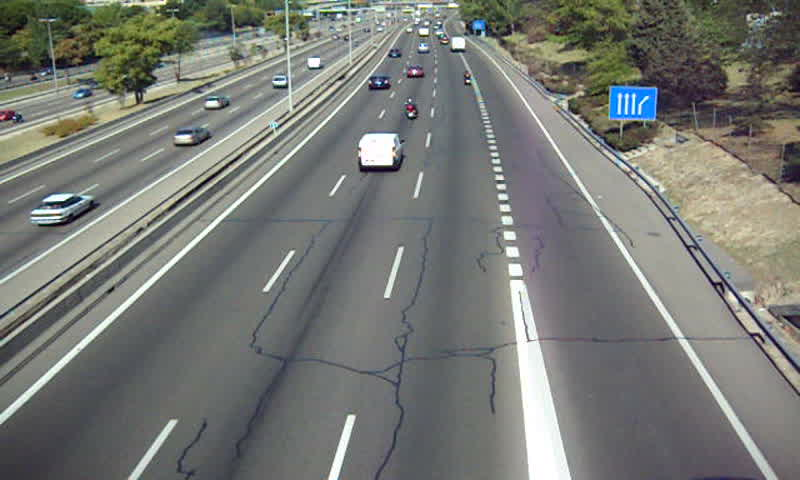car: (366, 73, 391, 92), (404, 66, 423, 80)
motorcycle: (402, 98, 418, 121), (462, 70, 472, 89)
van: (358, 132, 403, 173), (452, 36, 466, 53)
